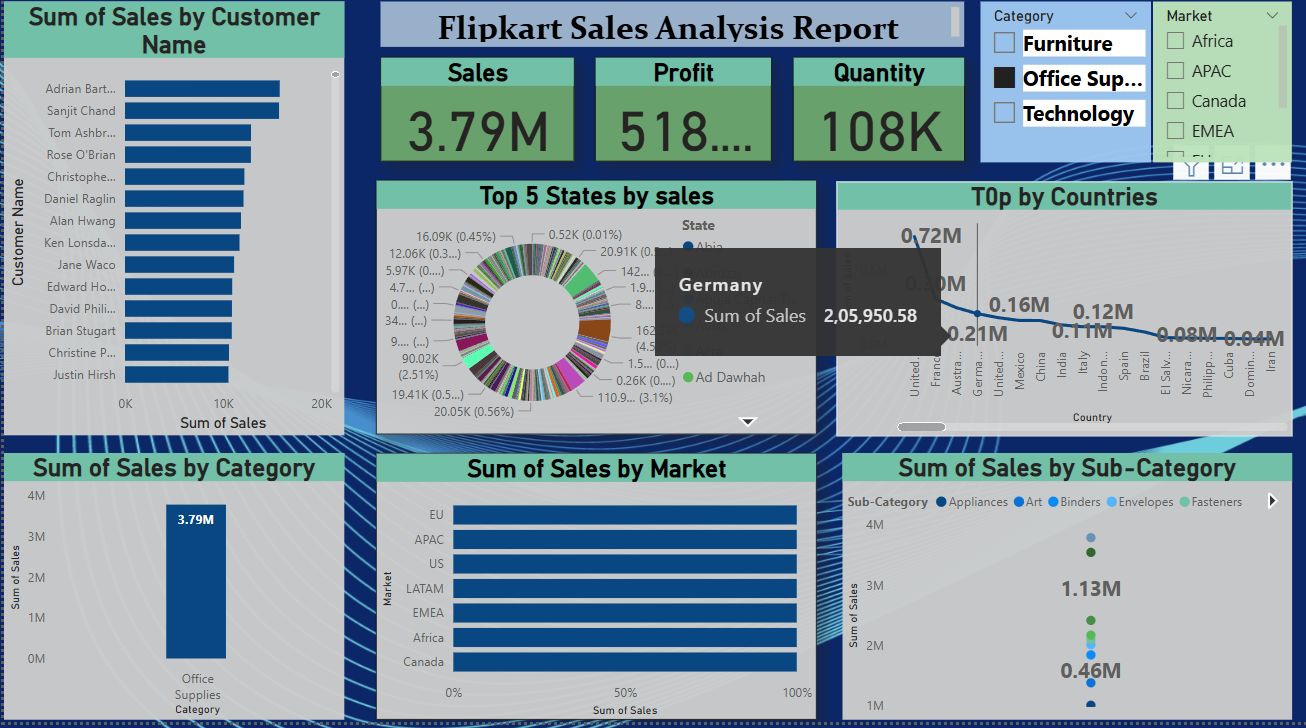

Layout of this report page (visuals, bound fields, positions):
{"tool":"powerbi","page":{"name":"Sales Analysis report","canvas":[1280,720],"ordinal":0},"visuals":[{"type":"columnChart","fields":{"Category":["Orders.Category"],"Y":["Orders.Sales"]},"box":[0,442,348,278],"z":0},{"type":"hundredPercentStackedBarChart","fields":{"Category":["Orders.Market"],"Y":["Orders.Sales"]},"box":[350,442,438,278],"z":1000},{"type":"stackedAreaChart","fields":{"Y":["Orders.Sales"],"Series":["Orders.Sub-Category"]},"box":[788,442,492,278],"z":2000},{"type":"lineChart","title":"T0p by Countries ","fields":{"Category":["Orders.Country"],"Y":["Orders.Sales"]},"box":[788,196,492,246],"z":3000},{"type":"donutChart","title":"Top 5 States by sales","fields":{"Y":["Orders.Sales"],"Series":["Orders.State"]},"box":[348,196,442,246],"z":4000},{"type":"barChart","fields":{"Category":["Orders.Customer Name"],"Y":["Orders.Sales"]},"box":[0,2,348,440],"z":5000},{"type":"card","title":"Sales","fields":{"Values":["Orders.Sales"]},"box":[348,76,222,120],"z":6000},{"type":"card","title":"Profit","fields":{"Values":["Orders.Profit"]},"box":[572,76,192,120],"z":7000},{"type":"card","title":"Quantity","fields":{"Values":["Orders.Quantity"]},"box":[764,76,152,120],"z":8000},{"type":"slicer","fields":{"Values":["Orders.Category"]},"box":[916,2,198,194],"z":10000},{"type":"slicer","fields":{"Values":["Orders.Market"]},"box":[1114,0,166,196],"z":11000},{"type":"textbox","box":[350,2,566,74],"z":12000}]}

Visuals, with their boxes in screenshot pixels (x1, y1, x2, y2), scaled from the page's 1280x720 canvas onto the 1306x728 screenshot:
columnChart - Orders.Category x Orders.Sales: 0,447,355,727
hundredPercentStackedBarChart - Orders.Market x Orders.Sales: 357,447,804,727
stackedAreaChart - Orders.Sales x Orders.Sub-Category: 804,447,1305,727
"T0p by Countries " lineChart: 804,198,1305,447
"Top 5 States by sales" donutChart: 355,198,806,447
barChart - Orders.Customer Name x Orders.Sales: 0,2,355,447
"Sales" card: 355,77,582,198
"Profit" card: 584,77,780,198
"Quantity" card: 780,77,935,198
slicer - Orders.Category: 935,2,1137,198
slicer - Orders.Market: 1137,0,1305,198
textbox: 357,2,935,77
